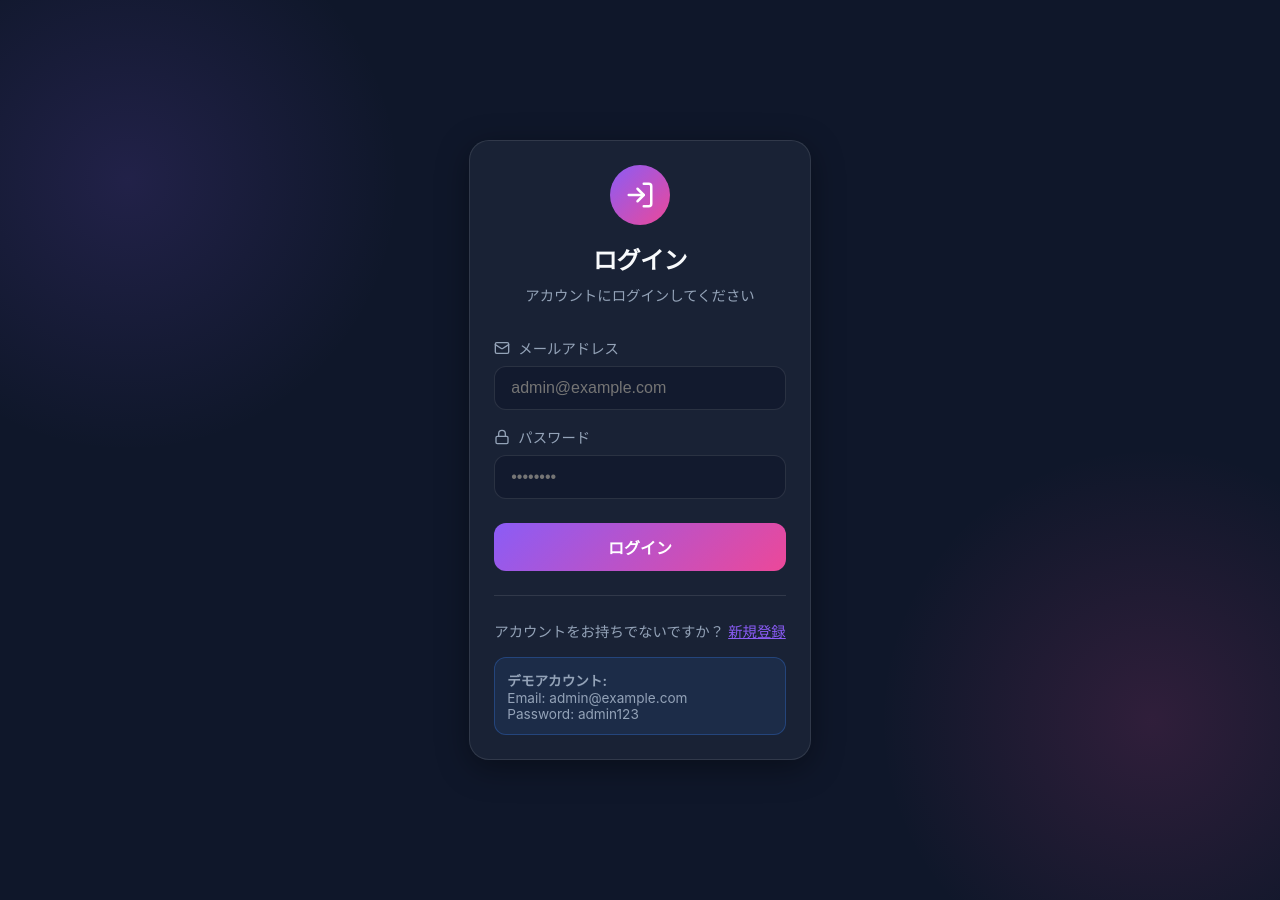
Test case: AuthPage Component › 登録フォームに切替できる
// 新規登録リンクをクリック（ボタンとして存在）
What coordinates should you click on to do the following:
click the button "新規登録"
I would click on:
 (757, 630)
Its box is [728, 620, 786, 641].
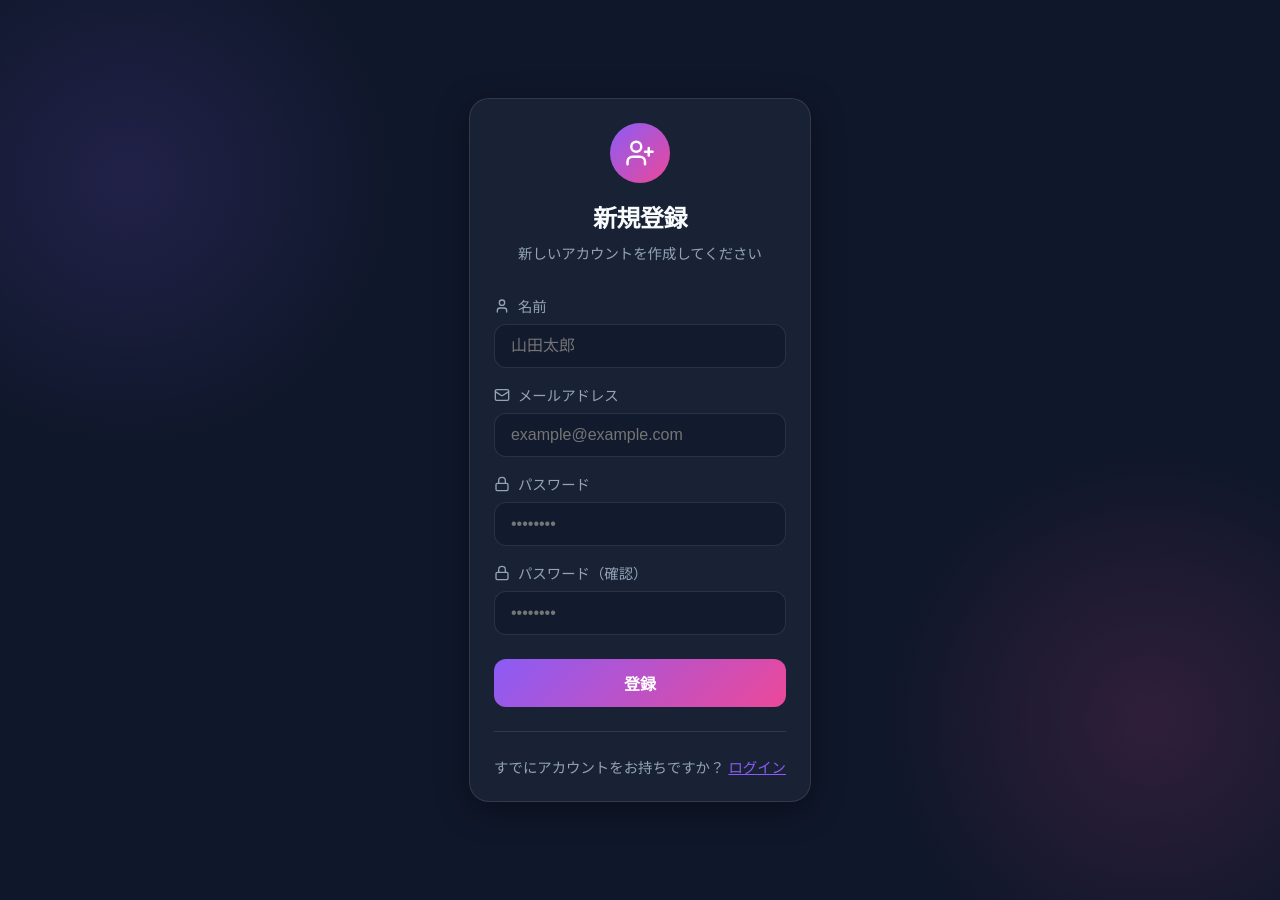
Expected: the heading "新規登録" is shown, [593, 204, 687, 233]
